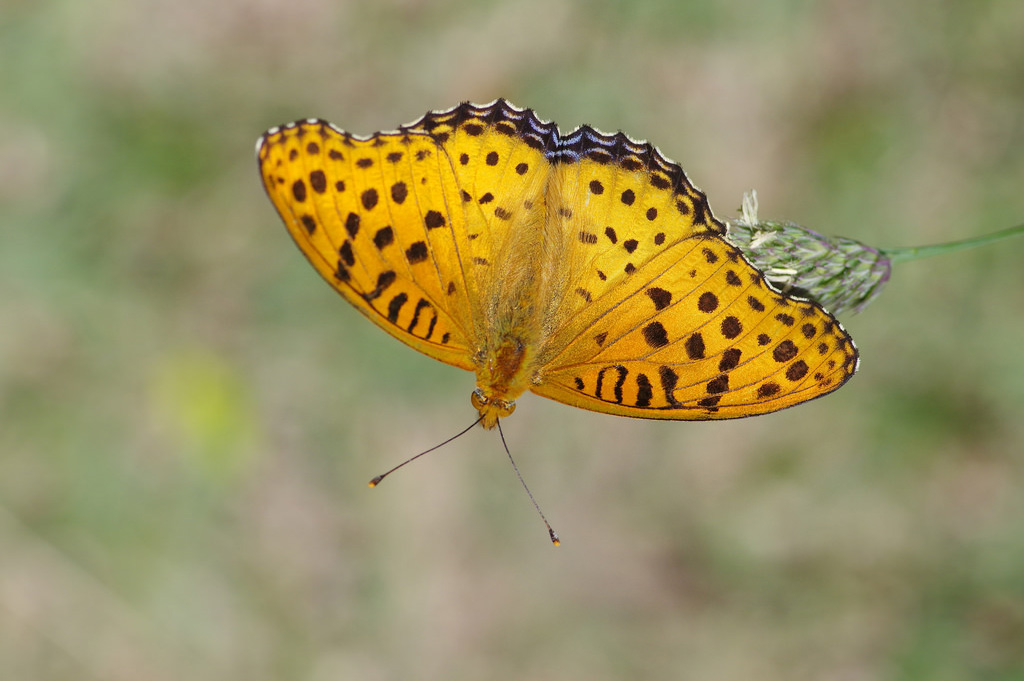Argyreus hyperbius: (251, 95, 865, 559)
butterfly: (253, 97, 867, 561)
